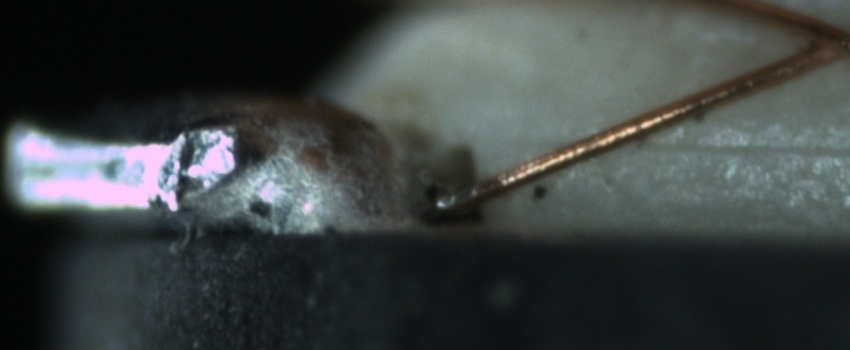CL: (793, 8, 849, 66)
DL: (530, 114, 850, 175)
TS: (428, 180, 478, 215)
